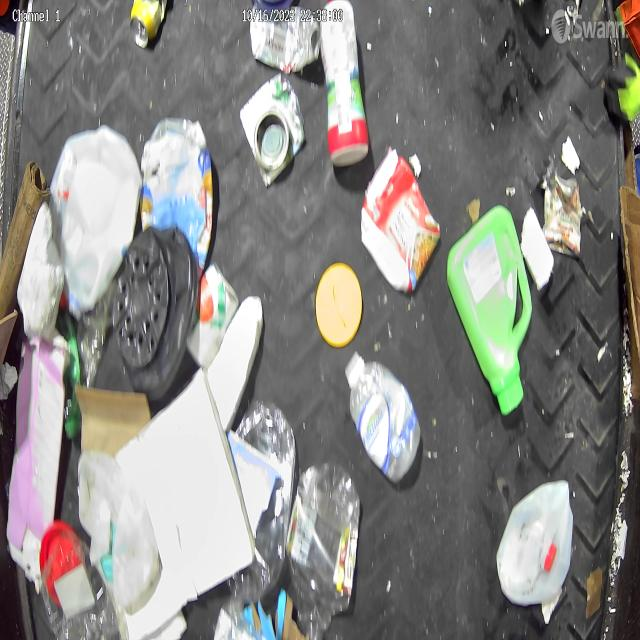can: (242, 76, 306, 193), (186, 261, 240, 371), (250, 3, 321, 74), (542, 170, 584, 258), (129, 0, 167, 50)
milk_jug: (53, 125, 143, 317), (77, 449, 159, 606), (498, 478, 576, 610)
non_white_jug: (449, 208, 535, 420)
plastic_bottle: (229, 403, 297, 609), (287, 458, 359, 637), (343, 355, 423, 484)
